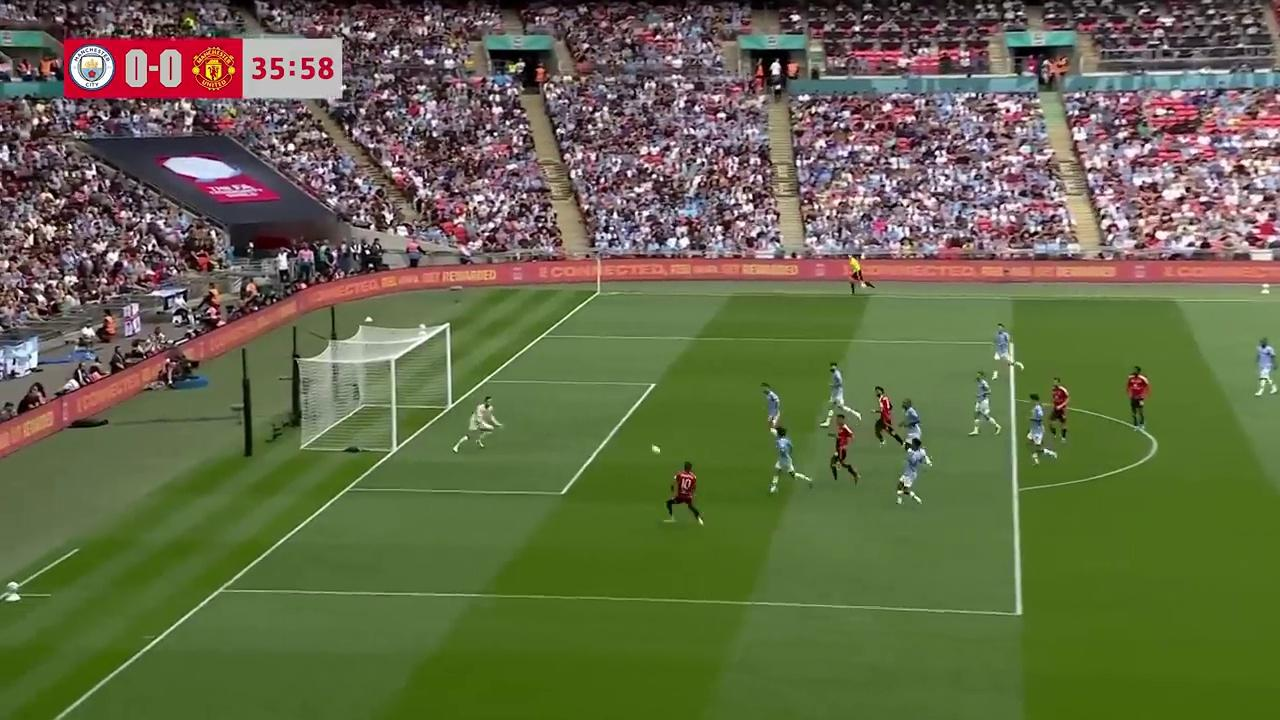ball: (650, 442, 661, 456)
player: (767, 426, 810, 494), (663, 461, 704, 525), (454, 397, 500, 451), (1025, 394, 1057, 465), (822, 362, 859, 422), (827, 418, 859, 485), (969, 372, 1001, 436), (894, 451, 927, 507), (873, 388, 903, 446), (894, 396, 926, 450), (1125, 365, 1151, 431), (1048, 377, 1069, 444), (1254, 338, 1278, 396), (991, 323, 1018, 368), (760, 381, 782, 434)
referee: (846, 255, 872, 294)
